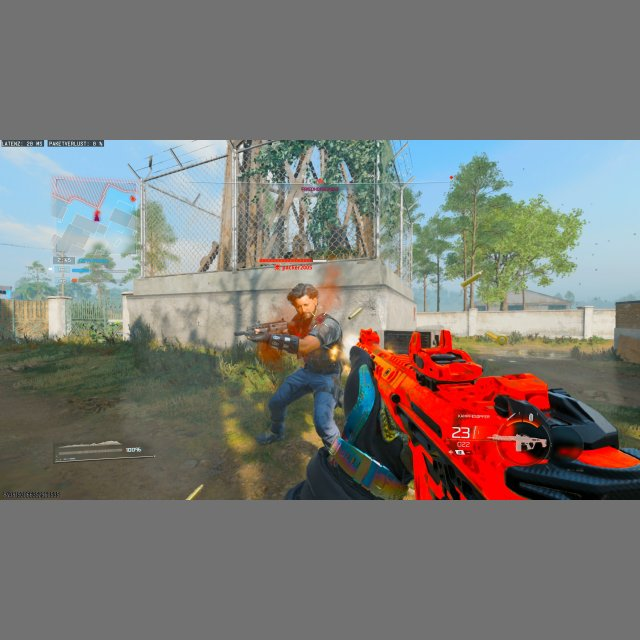head: (288, 283, 319, 316)
player: (241, 283, 345, 448)
